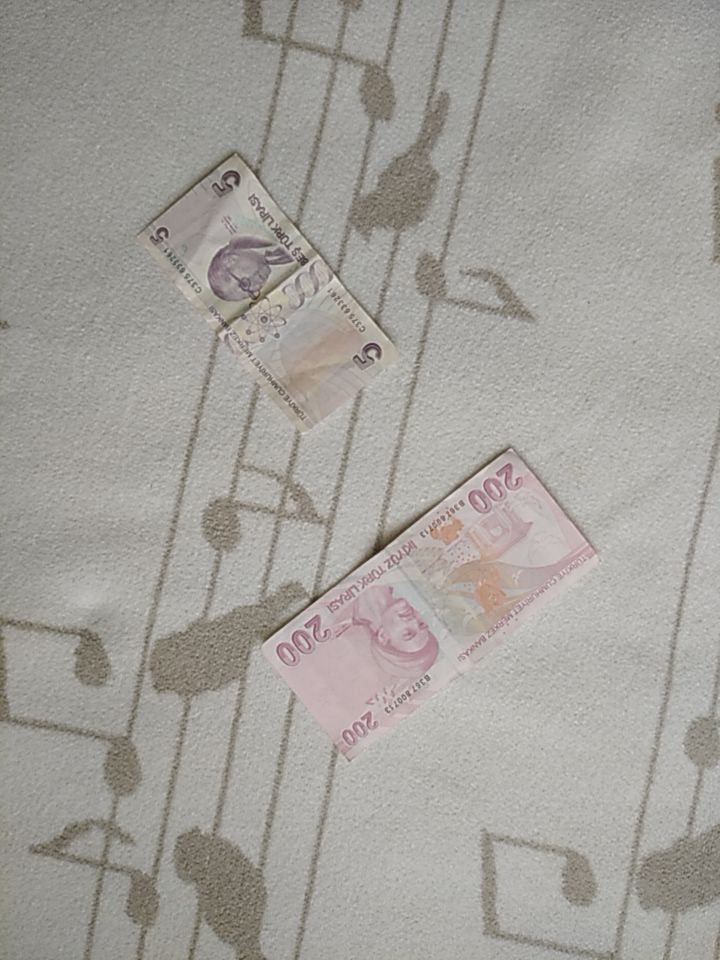200TL: (259, 447, 602, 765)
5TL: (134, 152, 400, 434)
